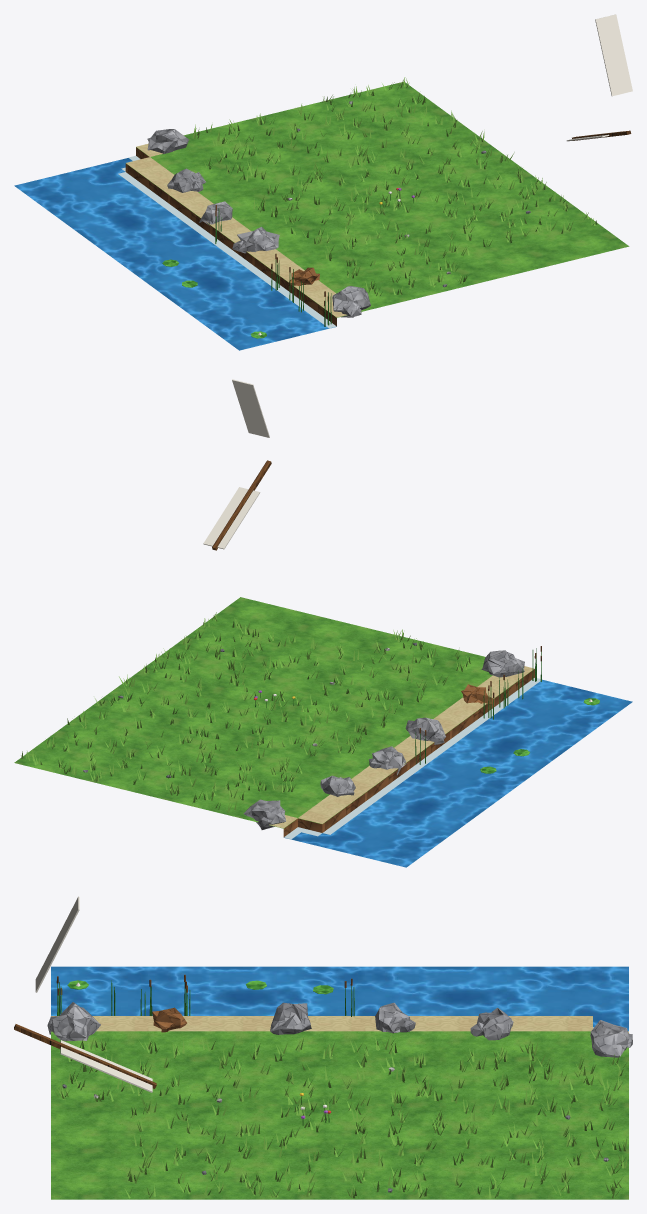
The model's file is chunk_4_9.glb.
3 views of the same model, one above another, from view 1: azimuth 30°, elevation 25°; view 2: azimuth 150°, elevation 25°; view 3: azimuth 270°, elevation 25° (orthographic). The views are drawn at different scales.
Visible parts, largest first — view 1: chunk_4_9; view 2: chunk_4_9; view 3: chunk_4_9.
Part boxes in pixels (left/top/right/bottom): chunk_4_9: left=14, top=14, right=632, bottom=350; chunk_4_9: left=14, top=379, right=632, bottom=867; chunk_4_9: left=14, top=896, right=632, bottom=1199.
Bounding box in the file's own units: 16.14 × 9.27 × 17.13.
19 materials, 12 textured.
